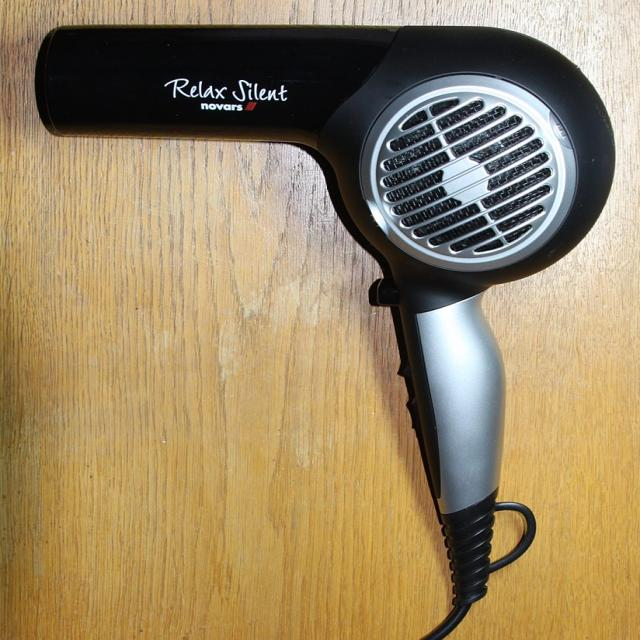dryer: (33, 24, 616, 608)
